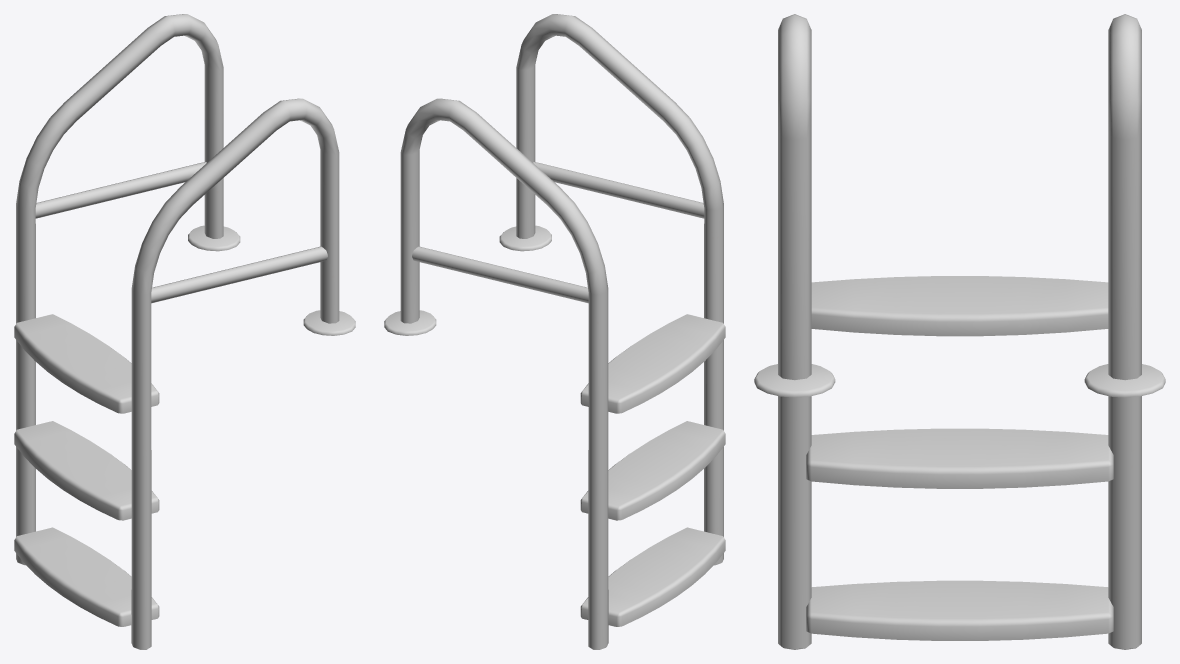
The model's file is PoolStair.FBX.
The picture shows the model from 3 angles, left to right: view 1: azimuth 30°, elevation 25°; view 2: azimuth 150°, elevation 25°; view 3: azimuth 270°, elevation 25°; orthographic projection. The views are drawn at different scales.
Parts seen in each view (by area): view 1: Pool_Ladder; view 2: Pool_Ladder; view 3: Pool_Ladder.
Boxes of the visible parts, left/top/right/bottom form: Pool_Ladder: left=14, top=14, right=355, bottom=649; Pool_Ladder: left=384, top=14, right=725, bottom=649; Pool_Ladder: left=754, top=14, right=1165, bottom=649.
Bounding box in the file's own units: 67.56 × 138 × 70.62.
